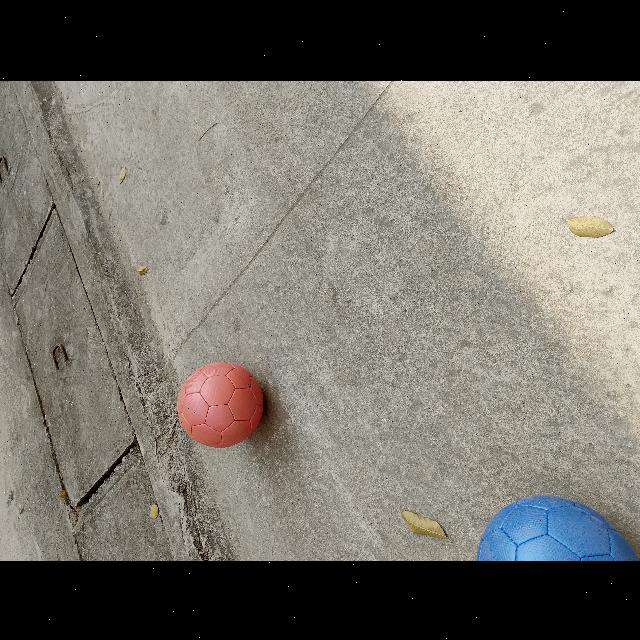B: (477, 494, 640, 560)
R: (178, 360, 267, 448)
